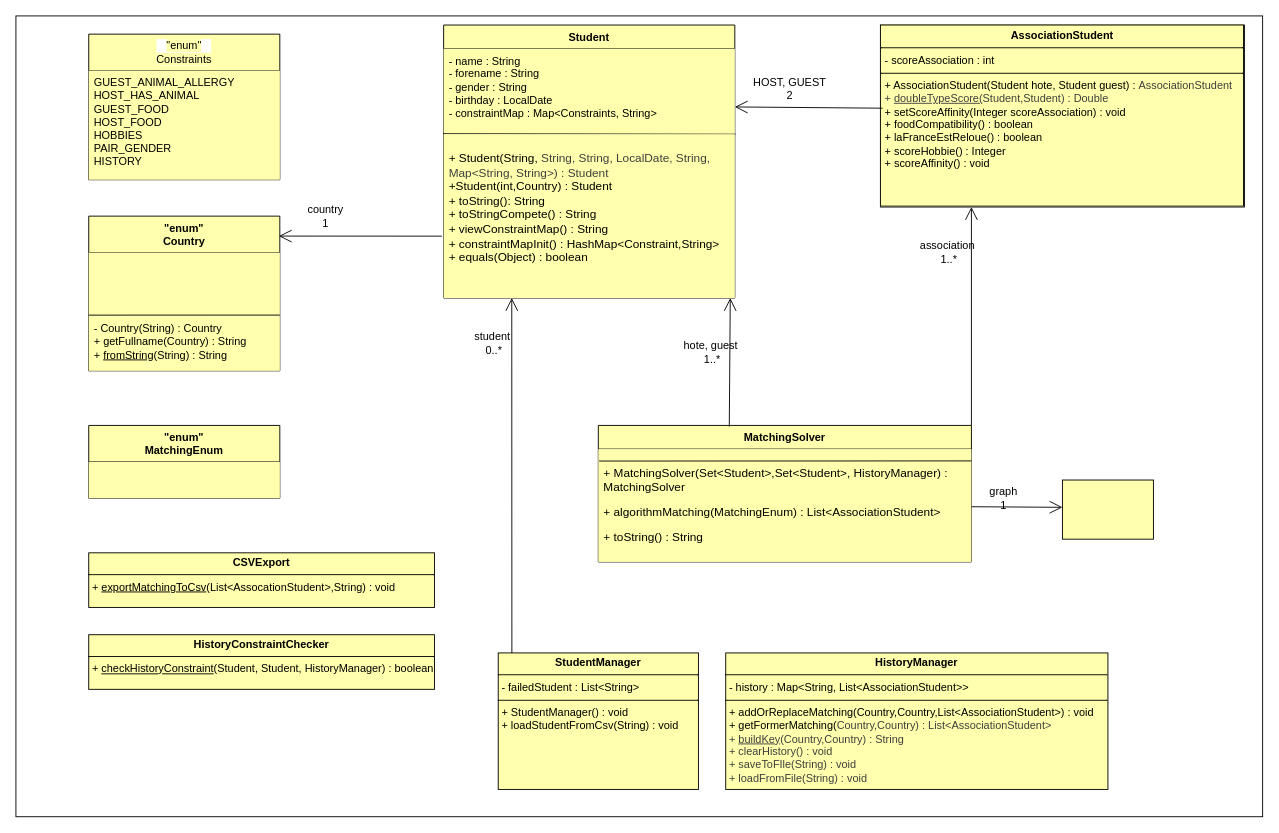
Image size: 1279x833. Some labels were removed from this diagram. The centre of each missing label's shape, as x and y in pixels:
FR(String) ES(String) GE(String) IT(String): the point at 183,284
HONGROIS_MATCHING MAX_PAIR_MATCHING: the point at 183,479
JGraphT ...: the point at 1107,509
